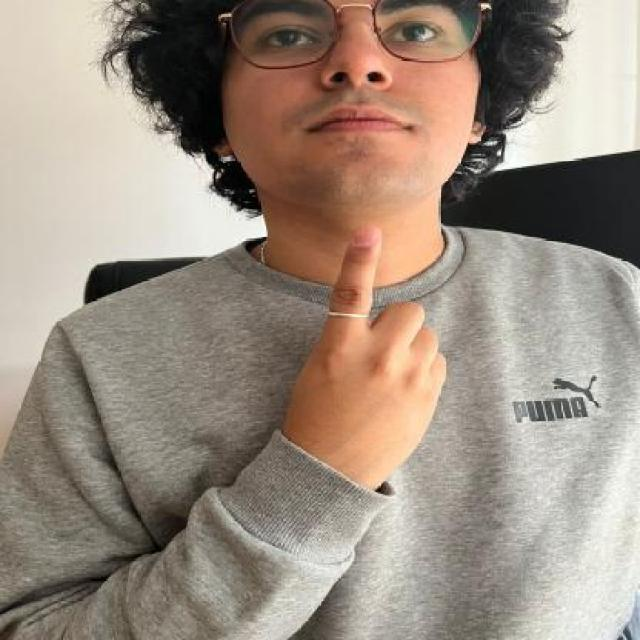T: (278, 215, 453, 480)
